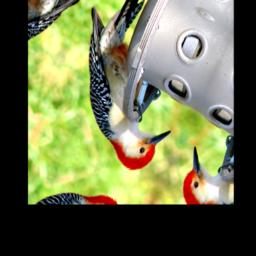Woodpecker: (41, 0, 220, 182)
